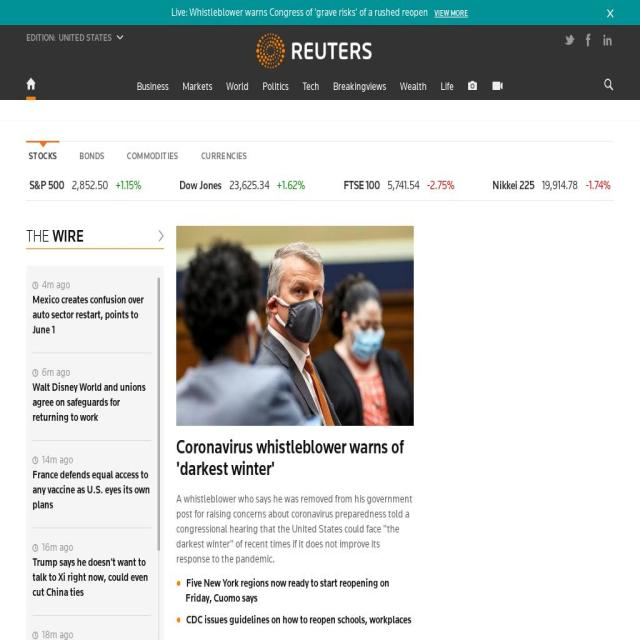button: (26, 226, 164, 247), (332, 76, 387, 96), (125, 150, 182, 162), (136, 76, 169, 96), (198, 150, 250, 162), (182, 76, 212, 96), (399, 76, 427, 96), (262, 76, 289, 96), (226, 76, 248, 96), (26, 150, 60, 162), (77, 150, 107, 162), (302, 76, 319, 96), (434, 9, 468, 18), (563, 32, 582, 48), (582, 32, 601, 48), (440, 76, 454, 96), (491, 76, 504, 96), (26, 76, 36, 100), (601, 32, 614, 48), (467, 76, 477, 96)
heading: (0, 120, 640, 640), (176, 436, 404, 479), (32, 292, 152, 338), (32, 380, 152, 425), (32, 555, 152, 600), (32, 468, 152, 512), (256, 34, 384, 68), (52, 225, 84, 247), (27, 226, 52, 249)
image: (176, 226, 414, 437), (158, 277, 160, 551), (563, 32, 576, 48), (601, 32, 614, 48), (582, 32, 594, 48), (604, 78, 614, 92), (491, 80, 504, 90), (26, 78, 36, 90), (467, 80, 477, 90), (33, 369, 38, 377), (33, 544, 38, 552), (117, 35, 123, 41), (33, 282, 38, 289), (33, 457, 38, 464), (33, 632, 38, 639)
link: (184, 576, 390, 605), (185, 612, 412, 626), (180, 178, 222, 192), (492, 178, 534, 192), (343, 178, 380, 192), (30, 178, 64, 192)
text: (176, 491, 414, 566), (426, 226, 614, 252), (171, 6, 428, 17), (125, 150, 182, 162), (198, 150, 250, 162), (59, 32, 112, 43), (229, 178, 270, 192), (541, 178, 578, 192), (72, 178, 108, 192), (387, 178, 419, 192), (42, 452, 73, 466), (276, 178, 306, 192), (26, 150, 60, 162), (42, 540, 73, 553), (42, 627, 73, 640), (426, 178, 454, 192), (42, 277, 70, 291), (585, 178, 611, 192), (42, 365, 70, 378), (26, 32, 59, 43), (77, 150, 107, 162), (116, 178, 141, 192), (607, 9, 614, 18)
